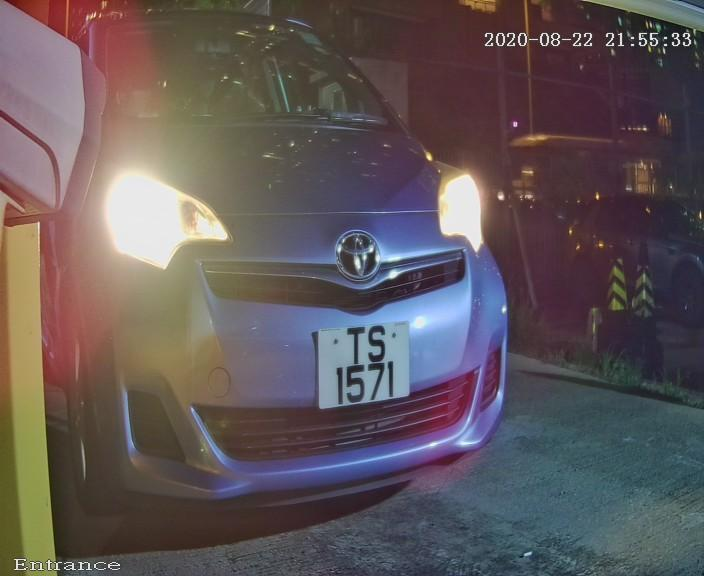License Plate: (305, 304, 422, 427)
